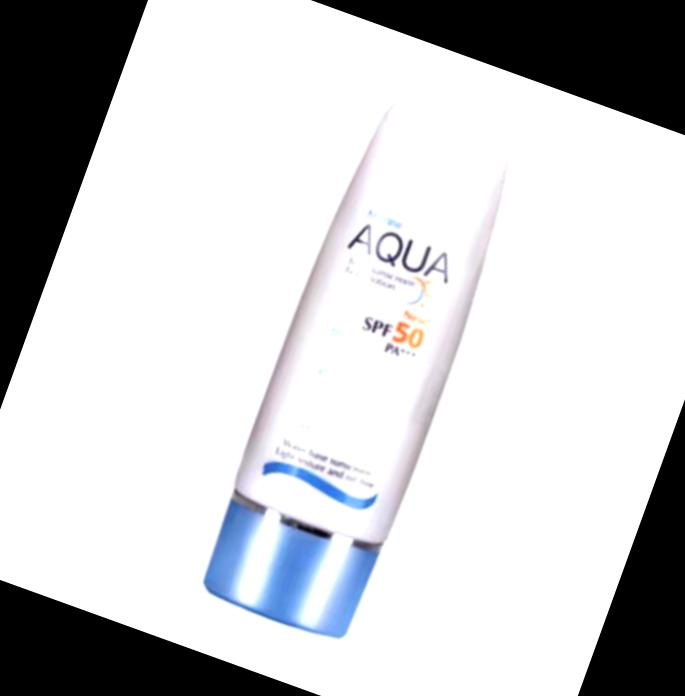cosmetic: (194, 85, 533, 647)
